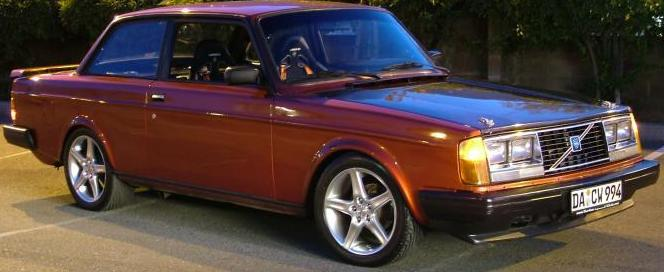front_view: (433, 106, 656, 239)
headlight: (446, 125, 557, 183)
side_glass: (70, 14, 269, 98)
